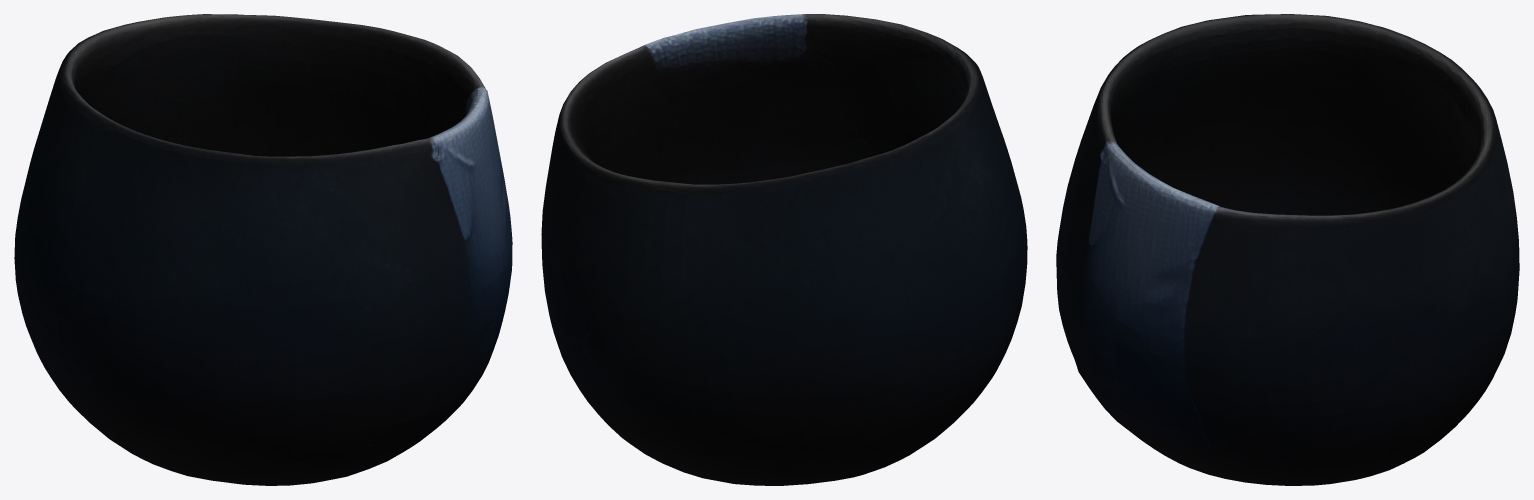
File: teabowl.obj
3 renders of one model, left to right at view 1: azimuth 30°, elevation 25°; view 2: azimuth 150°, elevation 25°; view 3: azimuth 270°, elevation 25°, orthographic. The views are drawn at different scales.
Parts seen in each view (by area): view 1: geometry_0; view 2: geometry_0; view 3: geometry_0.
Boxes of the visible parts, box(x1,y1,x2,y2) form: geometry_0: box(14, 14, 512, 485); geometry_0: box(541, 14, 1027, 485); geometry_0: box(1056, 14, 1519, 485).
Size of the model in its own units: 62.54 by 50.21 by 61.41.
1 material, 1 textured.
